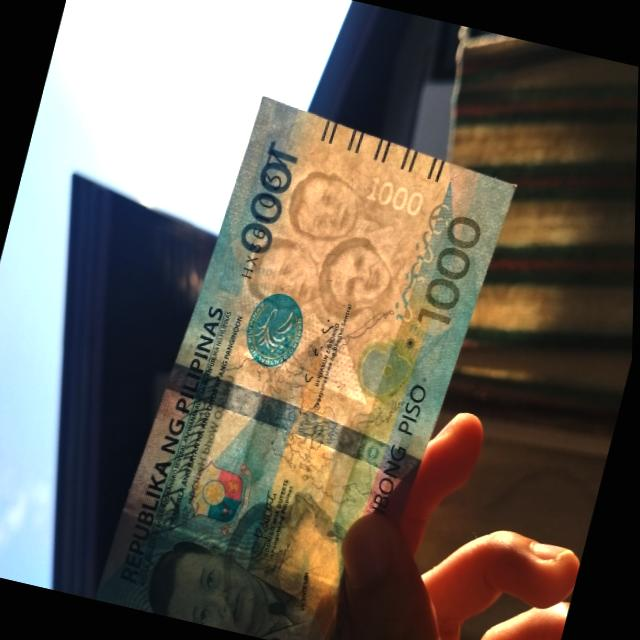security_thread: (164, 359, 426, 484)
see_through_mark: (389, 196, 460, 330)
serial_number: (233, 148, 290, 282)
value_watermark: (360, 169, 432, 219)
watermark: (239, 164, 419, 350)
